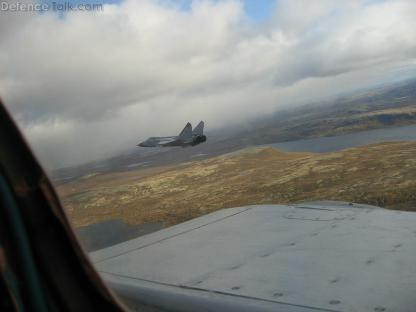Mig31: (135, 120, 211, 148)
